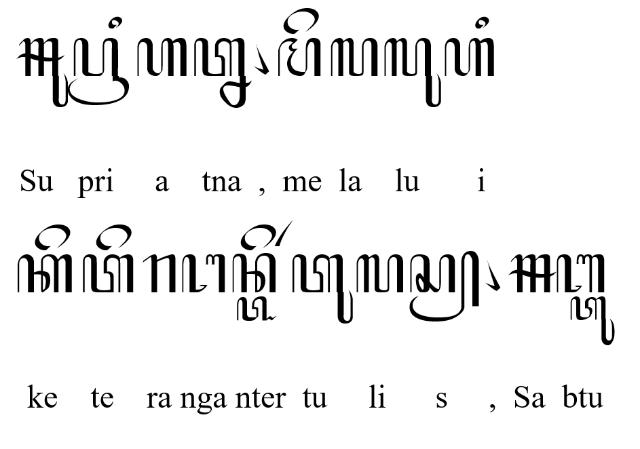-s: (410, 252, 480, 322)
S: (508, 255, 556, 294)
Su: (16, 37, 68, 107)
_r1: (274, 219, 294, 247)
_t: (237, 296, 277, 322)
b: (556, 254, 606, 294)
e: (240, 224, 276, 252), (282, 8, 320, 34), (34, 223, 70, 250), (96, 223, 132, 250)
h: (136, 37, 188, 77), (444, 37, 494, 77)
i: (108, 16, 122, 30), (475, 16, 489, 30)
k: (17, 254, 73, 294)
kom: (484, 260, 500, 292), (253, 45, 269, 76)
l: (329, 37, 378, 77), (356, 254, 404, 294)
lu: (384, 37, 442, 107)
m: (277, 37, 321, 77)
n: (232, 252, 278, 293)
nga: (182, 252, 226, 293)
pr: (67, 37, 129, 105)
r: (143, 254, 177, 294)
t: (82, 255, 134, 294)
tn: (193, 38, 251, 108)
tu: (291, 254, 353, 324), (570, 296, 614, 346)
